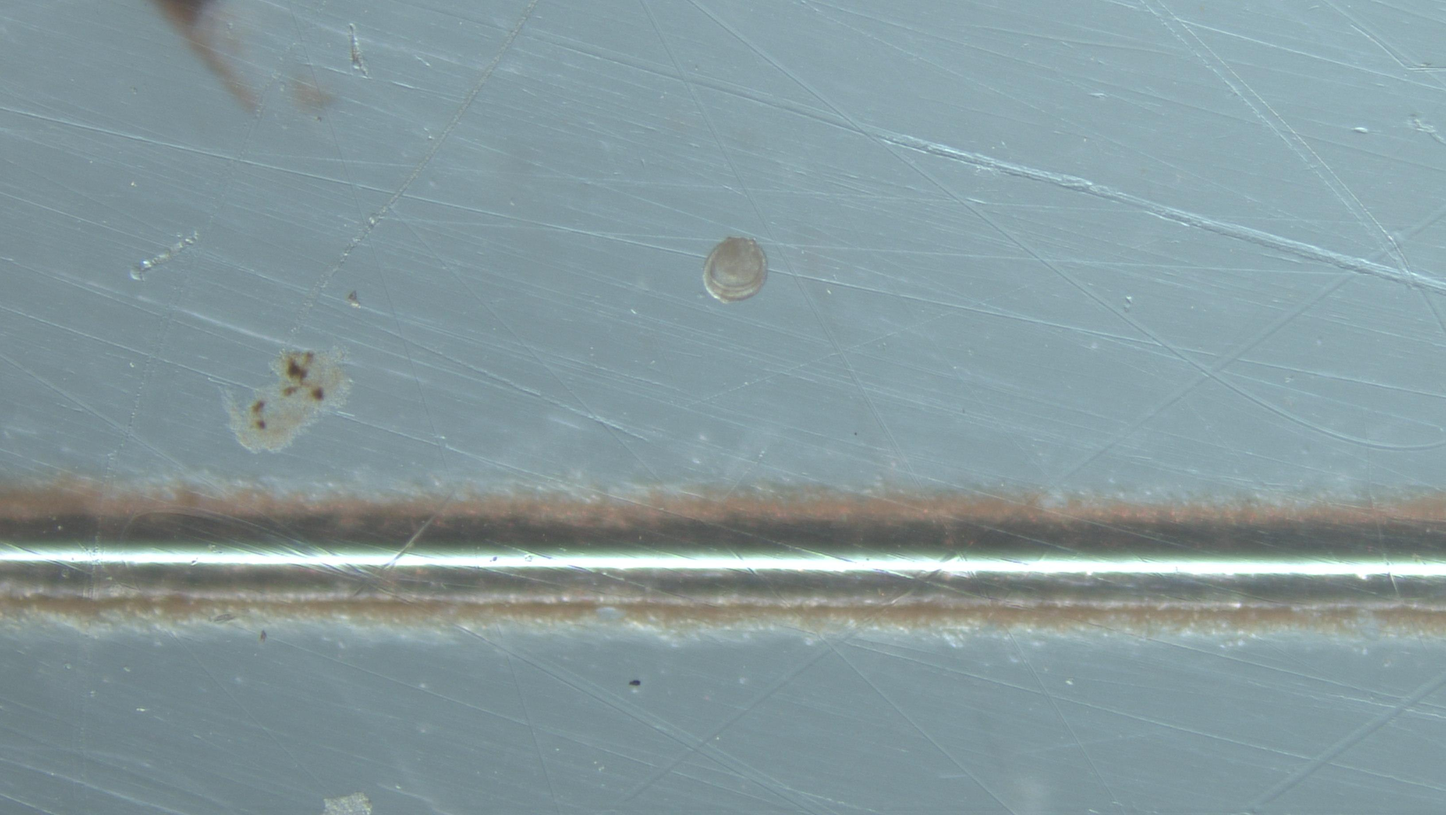live: (703, 237, 767, 303)
